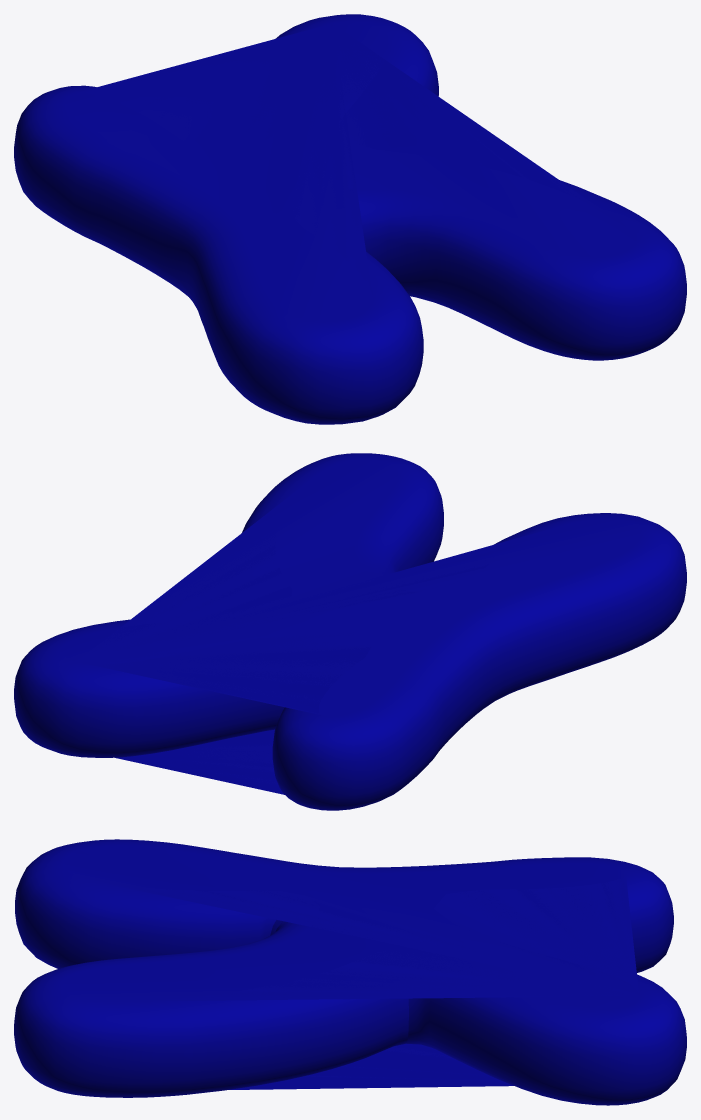
The picture shows the model from 3 angles, top to bottom: view 1: azimuth 30°, elevation 25°; view 2: azimuth 150°, elevation 25°; view 3: azimuth 270°, elevation 25°; orthographic projection. The views are drawn at different scales.
Visible parts, largest first — view 1: Curve.012; view 2: Curve.012; view 3: Curve.012.
Boxes of the visible parts, x1,y1,x2,y2 form: Curve.012: (14, 14, 686, 424); Curve.012: (14, 453, 686, 810); Curve.012: (14, 839, 686, 1105).
Bounding box in the file's own units: 240 × 49.54 × 336.
1 material, 1 textured.
